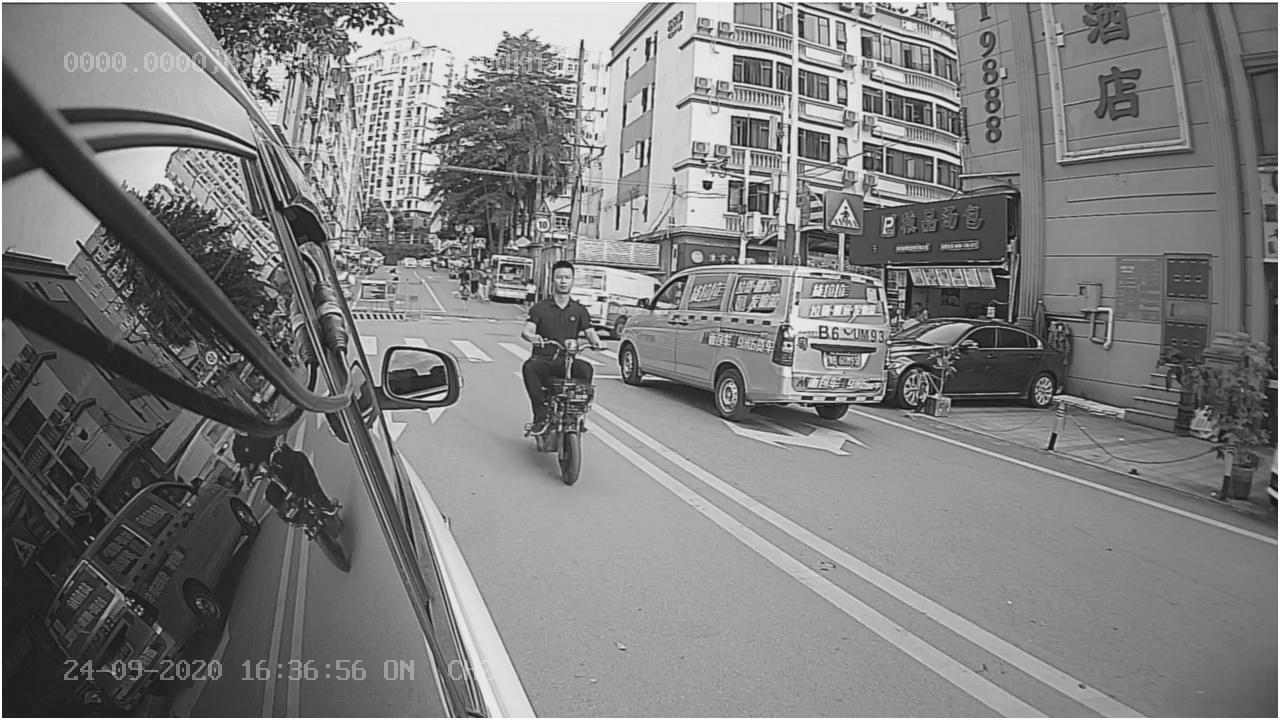person: (494, 257, 620, 494)
